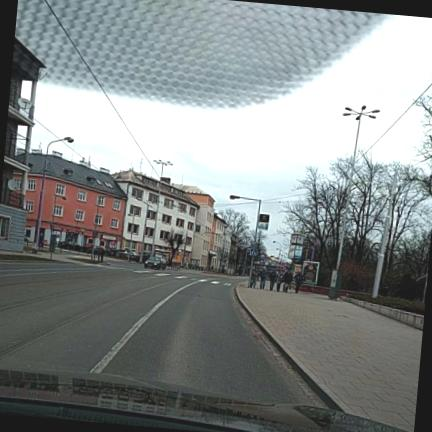Road: (0, 263, 318, 405)
